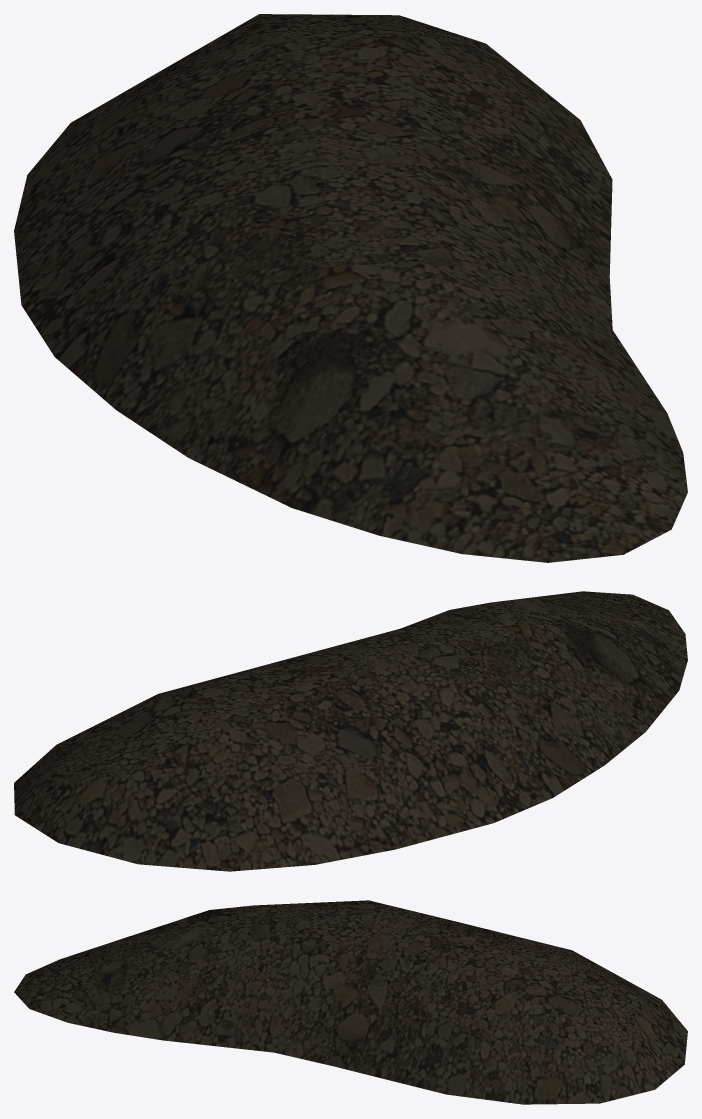
Rendered from gravel_pile_hr_1.dae.
3 renders of one model, top to bottom at view 1: azimuth 30°, elevation 25°; view 2: azimuth 150°, elevation 25°; view 3: azimuth 270°, elevation 25°, orthographic. The views are drawn at different scales.
Visible parts, largest first — view 1: gravel_pile_hr_1; view 2: gravel_pile_hr_1; view 3: gravel_pile_hr_1.
Part boxes in pixels (x1,y1,x2,y2): gravel_pile_hr_1: (14,14,687,562); gravel_pile_hr_1: (14,591,687,871); gravel_pile_hr_1: (14,900,687,1104).
Size of the model in its own units: 1.17 by 1.9 by 0.2567.
Materials: 1 (1 with a texture image).
